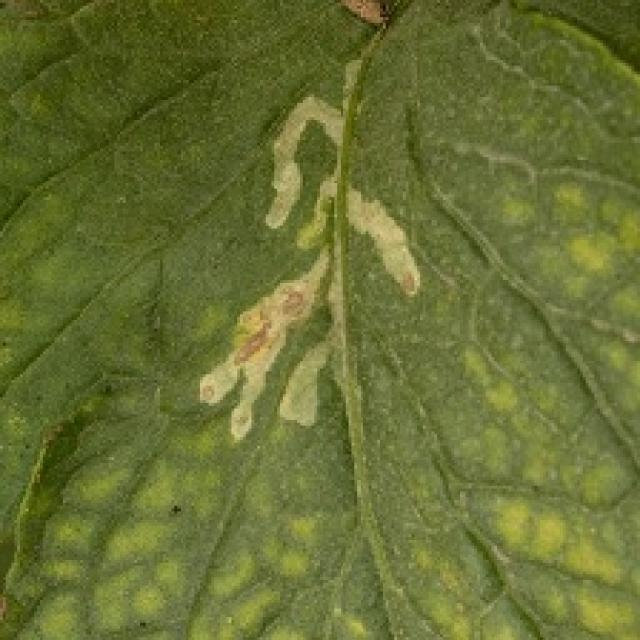Tuta absoluta: (184, 167, 433, 466), (233, 49, 383, 229), (328, 178, 440, 294)
